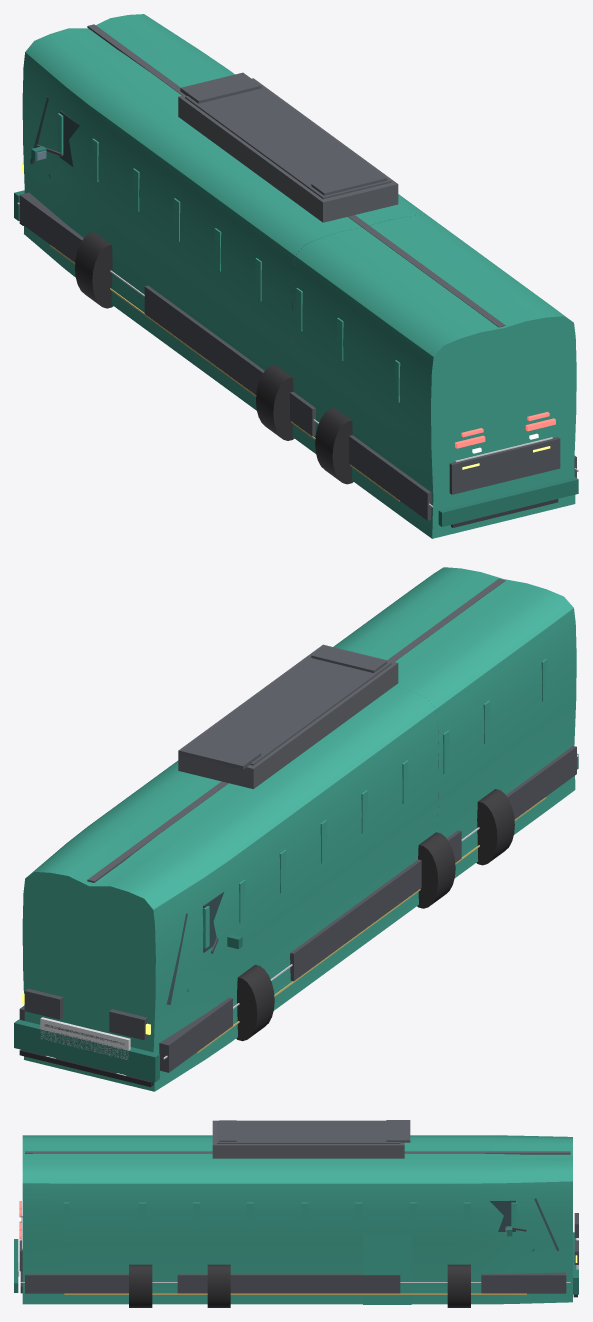
File: yutong-c12.glb
The picture shows the model from 3 angles, top to bottom: view 1: azimuth 30°, elevation 25°; view 2: azimuth 150°, elevation 25°; view 3: azimuth 270°, elevation 25°; orthographic projection. The views are drawn at different scales.
Visible parts, largest first — view 1: BodyRear, BodyFront, BodyMid, AC_Lid, AC_Pod, RearDeck, Skirt_L_1, Skirt_L_3, RearBumper, Wheel_L_-3_Tyre, Wheel_L_1_Tyre, Wheel_L_3_Tyre (+6 smaller); view 2: BodyFront, BodyRear, BodyMid, AC_Lid, AC_Pod, Bumper, Skirt_L_1, Skirt_L_0, Wheel_L_3_Tyre, Wheel_L_-3_Tyre, Wheel_L_1_Tyre, Skirt_L_3 (+9 smaller); view 3: BodyFront, BodyRear, BodyMid, AC_Lid, AC_Pod, Skirt_R_1, DoorFrame, Skirt_R_3, Skirt_R_0, Skirt_R_2, Wheel_R_-3_Tyre, Wheel_R_1_Tyre (+9 smaller).
Boxes of the visible parts, left/top/right/bottom form: BodyRear: left=292, top=215, right=576, bottom=538; BodyFront: left=22, top=14, right=234, bottom=353; BodyMid: left=155, top=135, right=433, bottom=437; AC_Lid: left=185, top=84, right=391, bottom=199; AC_Pod: left=178, top=78, right=398, bottom=222; RearDeck: left=449, top=437, right=560, bottom=494; Skirt_L_1: left=144, top=285, right=256, bottom=392; Skirt_L_3: left=349, top=435, right=431, bottom=520; RearBumper: left=438, top=477, right=578, bottom=526; Wheel_L_-3_Tyre: left=75, top=232, right=113, bottom=308; Wheel_L_1_Tyre: left=256, top=364, right=294, bottom=440; Wheel_L_3_Tyre: left=315, top=408, right=353, bottom=484; BodyFront: left=22, top=762, right=323, bottom=1091; BodyRear: left=333, top=567, right=576, bottom=877; BodyMid: left=160, top=686, right=438, bottom=979; AC_Lid: left=187, top=646, right=391, bottom=765; AC_Pod: left=178, top=644, right=398, bottom=788; Bumper: left=14, top=1019, right=159, bottom=1082; Skirt_L_1: left=290, top=873, right=402, bottom=981; Skirt_L_0: left=159, top=997, right=232, bottom=1072; Wheel_L_3_Tyre: left=476, top=789, right=514, bottom=865; Wheel_L_-3_Tyre: left=236, top=964, right=274, bottom=1041; Wheel_L_1_Tyre: left=417, top=832, right=455, bottom=908; Skirt_L_3: left=506, top=746, right=576, bottom=819; BodyFront: left=359, top=1135, right=572, bottom=1304; BodyRear: left=22, top=1135, right=205, bottom=1304; BodyMid: left=206, top=1135, right=389, bottom=1304; AC_Lid: left=217, top=1121, right=400, bottom=1143; AC_Pod: left=212, top=1120, right=404, bottom=1158; Skirt_R_1: left=256, top=1274, right=400, bottom=1293; DoorFrame: left=363, top=1233, right=411, bottom=1304; Skirt_R_3: left=25, top=1274, right=128, bottom=1293; Skirt_R_0: left=481, top=1272, right=566, bottom=1293; Skirt_R_2: left=177, top=1274, right=256, bottom=1293; Wheel_R_-3_Tyre: left=447, top=1264, right=470, bottom=1307; Wheel_R_1_Tyre: left=207, top=1264, right=230, bottom=1307.
Size of the model in its own units: 3.64 by 3.86 by 12.94.
